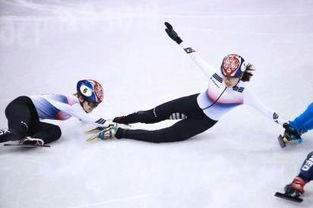Fall-Detected: (90, 34, 261, 152)
